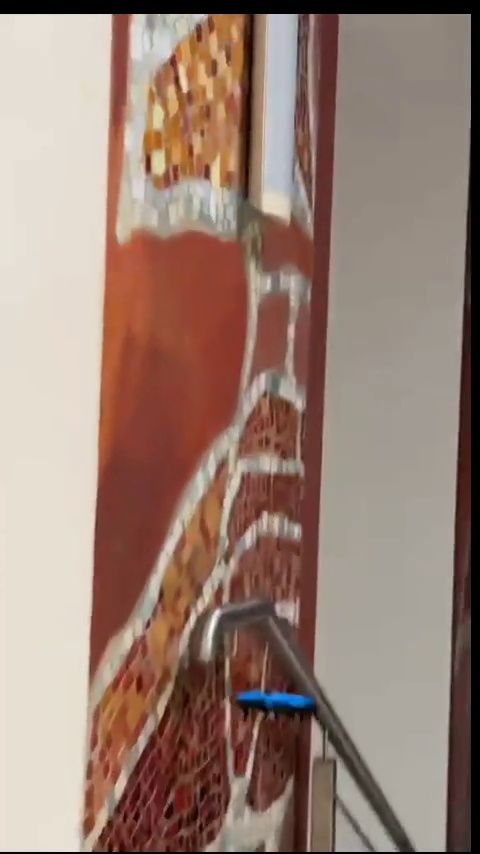drone: (234, 691, 320, 721)
